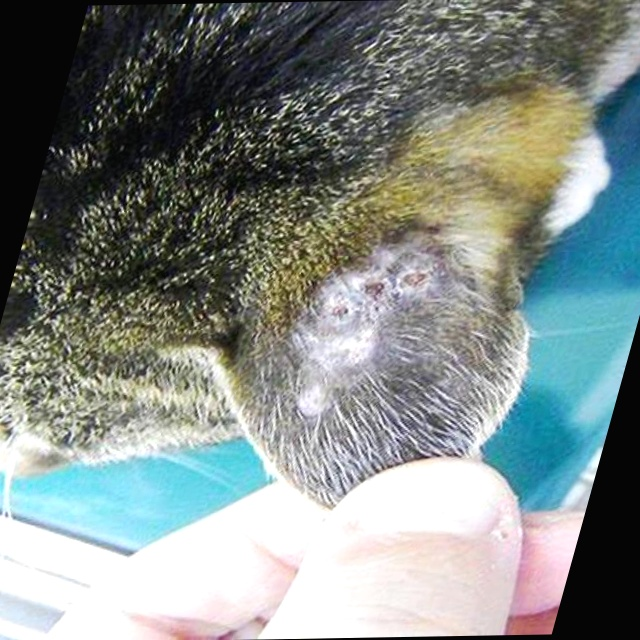ringworm: (271, 245, 442, 415)
